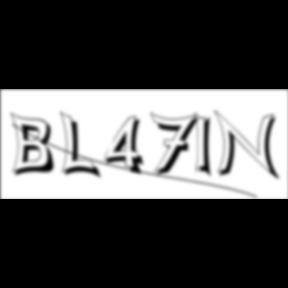4: (104, 115, 150, 179)
7: (150, 111, 204, 179)
B: (10, 111, 60, 179)
I: (195, 110, 219, 182)
L: (61, 110, 105, 182)
N: (214, 109, 284, 183)
